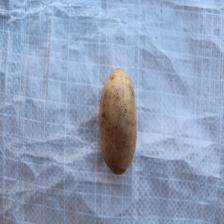Diseased-fungal potato: (96, 66, 139, 177)
